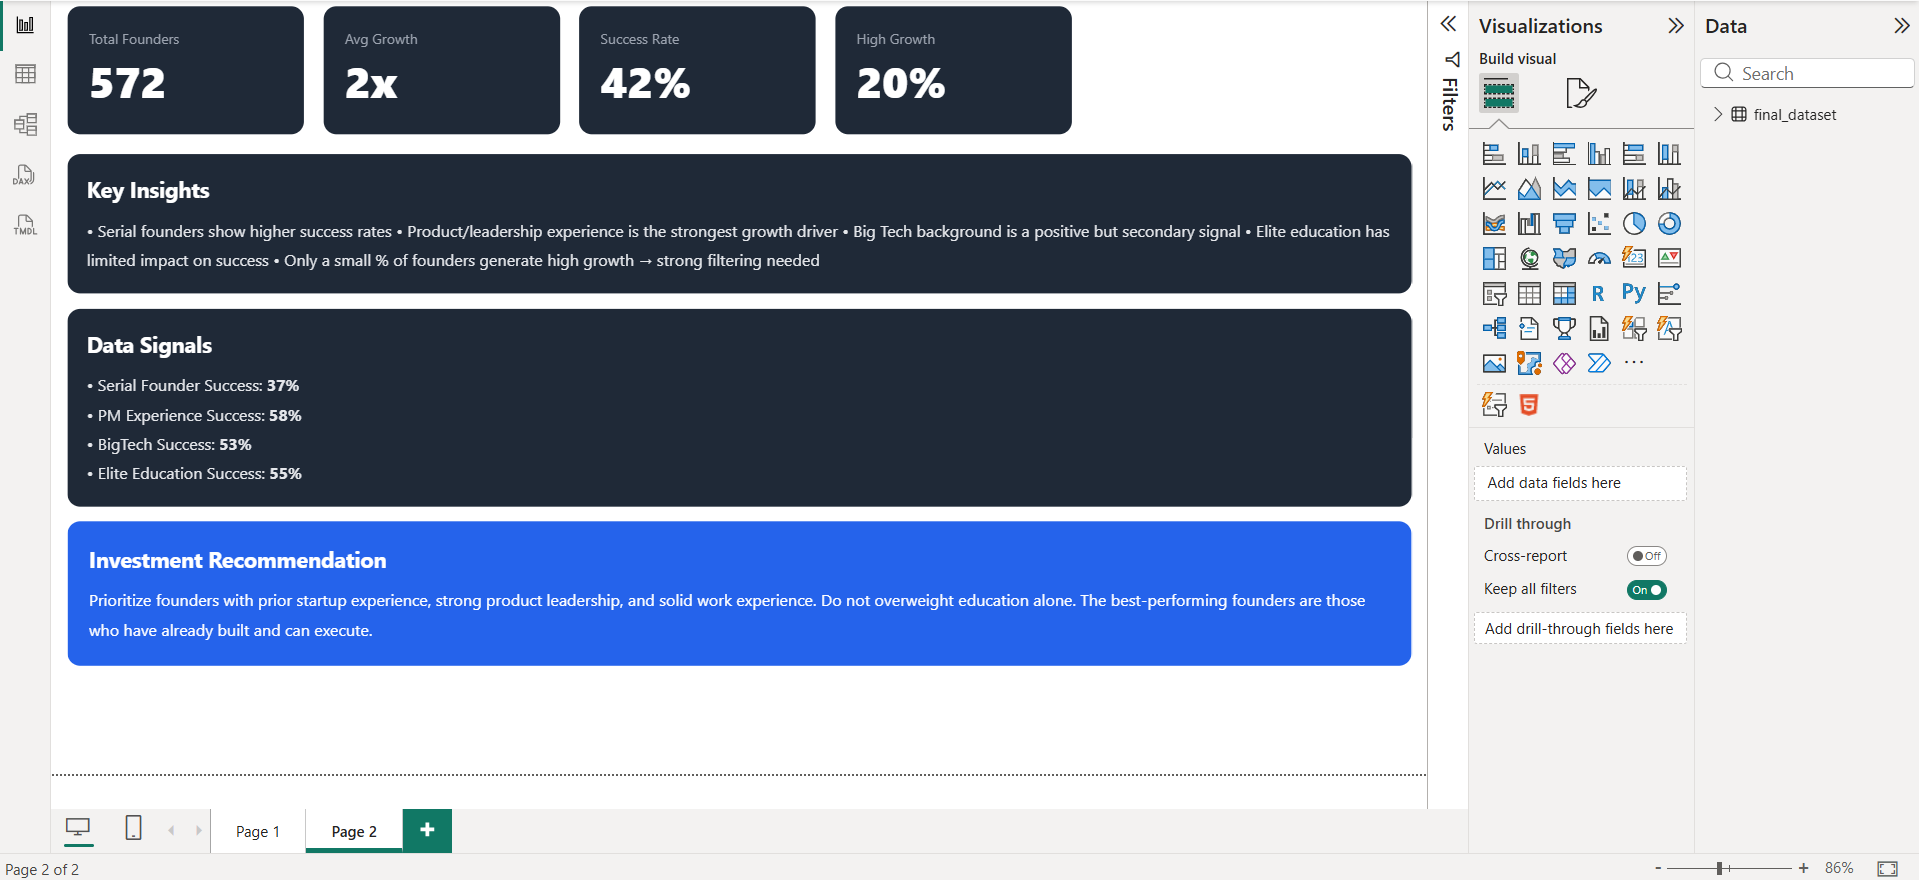

What the dashboard file says about the page in this screenshot:
{"tool":"powerbi","page":{"name":"Page 2","canvas":[1280,720],"ordinal":1},"visuals":[{"type":"htmlContent443BE3AD55E043BF878BED274D3A6855","fields":{"content":["final_dataset.Insight_HTML"]},"box":[10.5,0,1260.5,650],"z":0}]}

Visuals, with their boxes on the page's 1280x720 design canvas (x1, y1, x2, y2). These are canvas units, not pixel positions in the 1919x880 screenshot, which may show the page scaled, cropped or inside an application window:
htmlContent443BE3AD55E043BF878BED274D3A6855 - final_dataset.Insight_HTML: (10, 0, 1271, 650)
